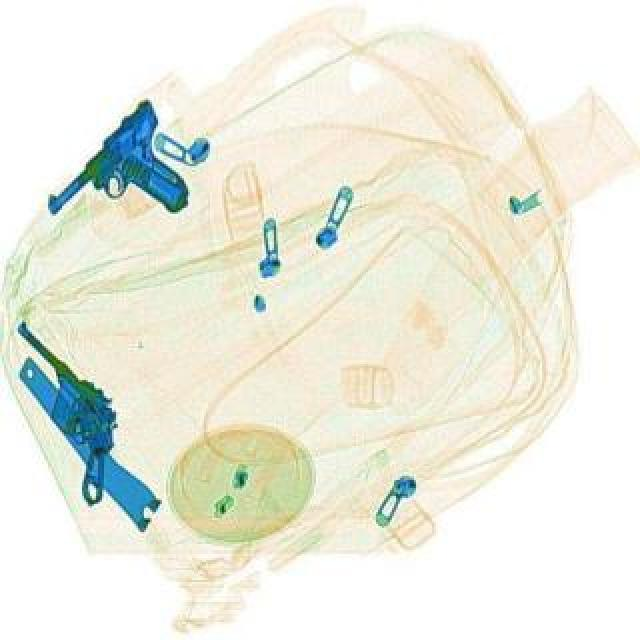gun: (36, 94, 226, 270), (0, 348, 156, 488)
